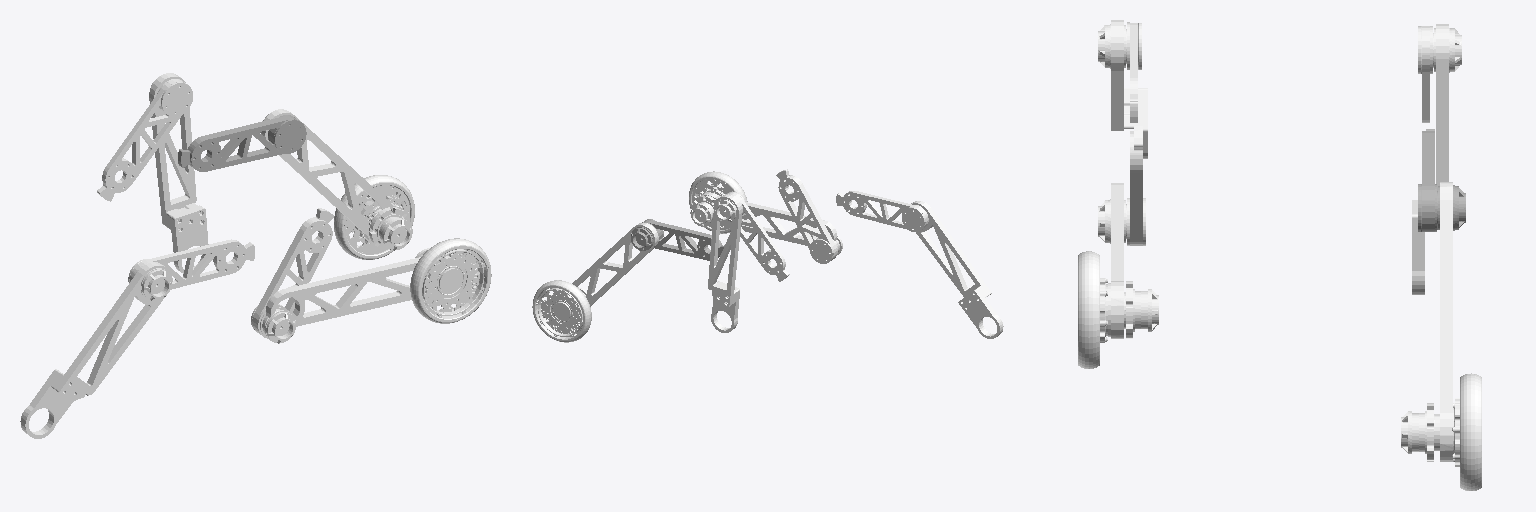
The robot description file, URDF, robot "infantry-rl":
<?xml version="1.0" encoding="utf-8"?>
<!-- This URDF was automatically created by SolidWorks to URDF Exporter! Originally created by Stephen Brawner (brawner@gmail.com) 
     Commit Version: 1.6.0-4-g7f85cfe  Build Version: 1.6.7995.38578
     For more information, please see http://wiki.ros.org/sw_urdf_exporter -->
<robot
  name="infantry-rl">
  <link
    name="base_link">
    <inertial>
      <origin
        xyz="-0.0065755 0.00014755 0.16552"
        rpy="0 0 0" />
      <mass
        value="9.3897" />
      <inertia
        ixx="0.011927"
        ixy="-1.1541E-05"
        ixz="6.2519E-05"
        iyy="0.01528"
        iyz="1.1611E-05"
        izz="0.018002" />
    </inertial>
    <visual>
      <origin
        xyz="0 0 0"
        rpy="0 0 0" />
      <geometry>
        <mesh
          filename="package://infantry-rl/meshes/base_link.STL" />
      </geometry>
      <material
        name="">
        <color
          rgba="0.89804 0.91765 0.92941 1" />
      </material>
    </visual>
    <collision>
      <origin
        xyz="0 0 0"
        rpy="0 0 0" />
      <geometry>
        <mesh
          filename="package://infantry-rl/meshes/base_link.STL" />
      </geometry>
    </collision>
  </link>
  <link
    name="left_front_ham">
    <inertial>
      <origin
        xyz="0.099289 0.0045817 -0.00068626"
        rpy="0 0 0" />
      <mass
        value="0.31578" />
      <inertia
        ixx="9.1866E-05"
        ixy="1.6076E-06"
        ixz="3.6232E-06"
        iyy="0.00073434"
        iyz="-1.1128E-08"
        izz="0.00068952" />
    </inertial>
    <visual>
      <origin
        xyz="0 0 0"
        rpy="0 0 0" />
      <geometry>
        <mesh
          filename="package://infantry-rl/meshes/left_front_ham.STL" />
      </geometry>
      <material
        name="">
        <color
          rgba="0.75294 0.75294 0.75294 1" />
      </material>
    </visual>
    <collision>
      <origin
        xyz="0 0 0"
        rpy="0 0 0" />
      <geometry>
        <mesh
          filename="package://infantry-rl/meshes/left_front_ham.STL" />
      </geometry>
    </collision>
  </link>
  <joint
    name="left_front_hip"
    type="revolute">
    <origin
      xyz="0.075033 0.168 0.128"
      rpy="0 0 0" />
    <parent
      link="base_link" />
    <child
      link="left_front_ham" />
    <axis
      xyz="9.9049E-05 1 0" />
    <limit
      lower="-0.17715"
      upper="1.3121"
      effort="40"
      velocity="16.755" />
  </joint>
  <link
    name="left_front_calf">
    <inertial>
      <origin
        xyz="-0.17027 -0.003571 -0.12119"
        rpy="0 0 0" />
      <mass
        value="0.69516" />
      <inertia
        ixx="0.0012193"
        ixy="1.2983E-06"
        ixz="-0.0011663"
        iyy="0.0032071"
        iyz="6.818E-07"
        izz="0.0020449" />
    </inertial>
    <visual>
      <origin
        xyz="0 0 0"
        rpy="0 0 0" />
      <geometry>
        <mesh
          filename="package://infantry-rl/meshes/left_front_calf.STL" />
      </geometry>
      <material
        name="">
        <color
          rgba="1 1 1 1" />
      </material>
    </visual>
    <collision>
      <origin
        xyz="0 0 0"
        rpy="0 0 0" />
      <geometry>
        <mesh
          filename="package://infantry-rl/meshes/left_front_calf.STL" />
      </geometry>
    </collision>
  </link>
  <joint
    name="left_front_knee"
    type="revolute">
    <origin
      xyz="0.145 0.0275 -0.00099998"
      rpy="0 0 0" />
    <parent
      link="left_front_ham" />
    <child
      link="left_front_calf" />
    <axis
      xyz="0 -1 0" />
    <limit
      lower="0.68679"
      upper="2.6859"
      effort="40"
      velocity="16.755" />
  </joint>
  <link
    name="left_wheel">
    <inertial>
      <origin
        xyz="-3.0976E-14 -0.0013569 -2.6729E-14"
        rpy="0 0 0" />
      <mass
        value="0.10335" />
      <inertia
        ixx="0.00019945"
        ixy="-4.2589E-18"
        ixz="5.6282E-15"
        iyy="0.00038938"
        iyz="-3.5512E-18"
        izz="0.00019945" />
    </inertial>
    <visual>
      <origin
        xyz="0 0 0"
        rpy="0 0 0" />
      <geometry>
        <mesh
          filename="package://infantry-rl/meshes/left_wheel.STL" />
      </geometry>
      <material
        name="">
        <color
          rgba="1 1 1 1" />
      </material>
    </visual>
    <collision>
      <origin
        xyz="0 0 0"
        rpy="0 0 0" />
      <geometry>
        <mesh
          filename="package://infantry-rl/meshes/left_wheel.STL" />
      </geometry>
    </collision>
  </link>
  <joint
    name="left_wheel"
    type="continuous">
    <origin
      xyz="-0.22 0.023445 -0.15653"
      rpy="0 0 0" />
    <parent
      link="left_front_calf" />
    <child
      link="left_wheel" />
    <axis
      xyz="0 -1 0" />
    <limit
      lower="0"
      upper="0"
      effort="3.69"
      velocity="61.471" />
  </joint>
  <link
    name="left_back_ham">
    <inertial>
      <origin
        xyz="-0.10449 0.0052588 -0.00071934"
        rpy="0 0 0" />
      <mass
        value="0.24697" />
      <inertia
        ixx="6.5626E-05"
        ixy="-2.7569E-14"
        ixz="-3.2252E-06"
        iyy="0.00051978"
        iyz="-1.4529E-15"
        izz="0.00048514" />
    </inertial>
    <visual>
      <origin
        xyz="0 0 0"
        rpy="0 0 0" />
      <geometry>
        <mesh
          filename="package://infantry-rl/meshes/left_back_ham.STL" />
      </geometry>
      <material
        name="">
        <color
          rgba="1 1 1 1" />
      </material>
    </visual>
    <collision>
      <origin
        xyz="0 0 0"
        rpy="0 0 0" />
      <geometry>
        <mesh
          filename="package://infantry-rl/meshes/left_back_ham.STL" />
      </geometry>
    </collision>
  </link>
  <joint
    name="left_back_hip"
    type="revolute">
    <origin
      xyz="-0.074967 0.1655 0.128"
      rpy="0 0 0" />
    <parent
      link="base_link" />
    <child
      link="left_back_ham" />
    <axis
      xyz="9.9049E-05 1 0" />
    <limit
      lower="1.3121"
      upper="3.3187"
      effort="40"
      velocity="16.755" />
  </joint>
  <link
    name="left_back_calf">
    <inertial>
      <origin
        xyz="0.12063 -0.015691 -0.087029"
        rpy="0 0 0" />
      <mass
        value="0.33194" />
      <inertia
        ixx="0.00045896"
        ixy="6.3092E-07"
        ixz="0.00048031"
        iyy="0.0012309"
        iyz="-4.9601E-07"
        izz="0.00078405" />
    </inertial>
    <visual>
      <origin
        xyz="0 0 0"
        rpy="0 0 0" />
      <geometry>
        <mesh
          filename="package://infantry-rl/meshes/left_back_calf.STL" />
      </geometry>
      <material
        name="">
        <color
          rgba="1 1 1 1" />
      </material>
    </visual>
    <collision>
      <origin
        xyz="0 0 0"
        rpy="0 0 0" />
      <geometry>
        <mesh
          filename="package://infantry-rl/meshes/left_back_calf.STL" />
      </geometry>
    </collision>
  </link>
  <joint
    name="left_back_knee"
    type="revolute">
    <origin
      xyz="-0.145 0.025 -0.00099998"
      rpy="0 0 0" />
    <parent
      link="left_back_ham" />
    <child
      link="left_back_calf" />
    <axis
      xyz="0 -1 0" />
    <limit
      lower="0.45571"
      upper="2.4548"
      effort="40"
      velocity="16.755" />
  </joint>
  <link
    name="right_front_ham">
    <inertial>
      <origin
        xyz="-0.099289 0.0044803 -0.00068626"
        rpy="0 0 0" />
      <mass
        value="0.31578" />
      <inertia
        ixx="9.1866E-05"
        ixy="1.6076E-06"
        ixz="-3.6232E-06"
        iyy="0.00073434"
        iyz="1.1128E-08"
        izz="0.00068952" />
    </inertial>
    <visual>
      <origin
        xyz="0 0 0"
        rpy="0 0 0" />
      <geometry>
        <mesh
          filename="package://infantry-rl/meshes/right_front_ham.STL" />
      </geometry>
      <material
        name="">
        <color
          rgba="1 1 1 1" />
      </material>
    </visual>
    <collision>
      <origin
        xyz="0 0 0"
        rpy="0 0 0" />
      <geometry>
        <mesh
          filename="package://infantry-rl/meshes/right_front_ham.STL" />
      </geometry>
    </collision>
  </link>
  <joint
    name="right_front_hip"
    type="revolute">
    <origin
      xyz="0.075 -0.168 0.128"
      rpy="0 0 -3.1416" />
    <parent
      link="base_link" />
    <child
      link="right_front_ham" />
    <axis
      xyz="-9.9049E-05 -1 0" />
    <limit
      lower="1.3121"
      upper="3.3187"
      effort="40"
      velocity="16.755" />
  </joint>
  <link
    name="right_front_calf">
    <inertial>
      <origin
        xyz="0.16803 -0.00088924 -0.14773"
        rpy="0 0 0" />
      <mass
        value="0.69516" />
      <inertia
        ixx="0.0012198"
        ixy="1.4187E-06"
        ixz="0.0011653"
        iyy="0.0032071"
        iyz="-1.1129E-06"
        izz="0.0020443" />
    </inertial>
    <visual>
      <origin
        xyz="0 0 0"
        rpy="0 0 0" />
      <geometry>
        <mesh
          filename="package://infantry-rl/meshes/right_front_calf.STL" />
      </geometry>
      <material
        name="">
        <color
          rgba="1 1 1 1" />
      </material>
    </visual>
    <collision>
      <origin
        xyz="0 0 0"
        rpy="0 0 0" />
      <geometry>
        <mesh
          filename="package://infantry-rl/meshes/right_front_calf.STL" />
      </geometry>
    </collision>
  </link>
  <joint
    name="right_front_knee"
    type="revolute">
    <origin
      xyz="-0.14273 0.0275 0.025549"
      rpy="0 0 0" />
    <parent
      link="right_front_ham" />
    <child
      link="right_front_calf" />
    <axis
      xyz="0 -1 0" />
    <limit
      lower="0.45571"
      upper="2.4548"
      effort="40"
      velocity="16.755" />
  </joint>
  <link
    name="right_wheel">
    <inertial>
      <origin
        xyz="0.0084057 -0.0013569 -0.012542"
        rpy="0 0 0" />
      <mass
        value="0.10335" />
      <inertia
        ixx="0.00019945"
        ixy="2.5041E-19"
        ixz="4.2304E-14"
        iyy="0.00038938"
        iyz="-6.16E-18"
        izz="0.00019945" />
    </inertial>
    <visual>
      <origin
        xyz="0 0 0"
        rpy="0 0 0" />
      <geometry>
        <mesh
          filename="package://infantry-rl/meshes/right_wheel.STL" />
      </geometry>
      <material
        name="">
        <color
          rgba="1 1 1 1" />
      </material>
    </visual>
    <collision>
      <origin
        xyz="0 0 0"
        rpy="0 0 0" />
      <geometry>
        <mesh
          filename="package://infantry-rl/meshes/right_wheel.STL" />
      </geometry>
    </collision>
  </link>
  <joint
    name="right_wheel"
    type="continuous">
    <origin
      xyz="0.20933 0.028445 -0.17054"
      rpy="0 0 0" />
    <parent
      link="right_front_calf" />
    <child
      link="right_wheel" />
    <axis
      xyz="0 -1 0" />
    <limit
      lower="0"
      upper="0"
      effort="3.69"
      velocity="61.471" />
  </joint>
  <link
    name="right_back_ham">
    <inertial>
      <origin
        xyz="0.10449 0.0052588 -0.00071934"
        rpy="0 0 0" />
      <mass
        value="0.24697" />
      <inertia
        ixx="6.5626E-05"
        ixy="-2.7604E-14"
        ixz="3.2252E-06"
        iyy="0.00051978"
        iyz="-2.687E-16"
        izz="0.00048514" />
    </inertial>
    <visual>
      <origin
        xyz="0 0 0"
        rpy="0 0 0" />
      <geometry>
        <mesh
          filename="package://infantry-rl/meshes/right_back_ham.STL" />
      </geometry>
      <material
        name="">
        <color
          rgba="1 1 1 1" />
      </material>
    </visual>
    <collision>
      <origin
        xyz="0 0 0"
        rpy="0 0 0" />
      <geometry>
        <mesh
          filename="package://infantry-rl/meshes/right_back_ham.STL" />
      </geometry>
    </collision>
  </link>
  <joint
    name="right_back_hip"
    type="revolute">
    <origin
      xyz="-0.075 -0.1705 0.128"
      rpy="0 0 -3.1416" />
    <parent
      link="base_link" />
    <child
      link="right_back_ham" />
    <axis
      xyz="-9.9049E-05 -1 0" />
    <limit
      lower="-0.17715"
      upper="1.3121"
      effort="40"
      velocity="16.755" />
  </joint>
  <link
    name="right_back_calf">
    <inertial>
      <origin
        xyz="-0.12063 -0.015703 -0.087029"
        rpy="0 0 0" />
      <mass
        value="0.33194" />
      <inertia
        ixx="0.00045896"
        ixy="6.3092E-07"
        ixz="-0.00048031"
        iyy="0.0012309"
        iyz="4.9601E-07"
        izz="0.00078405" />
    </inertial>
    <visual>
      <origin
        xyz="0 0 0"
        rpy="0 0 0" />
      <geometry>
        <mesh
          filename="package://infantry-rl/meshes/right_back_calf.STL" />
      </geometry>
      <material
        name="">
        <color
          rgba="1 1 1 1" />
      </material>
    </visual>
    <collision>
      <origin
        xyz="0 0 0"
        rpy="0 0 0" />
      <geometry>
        <mesh
          filename="package://infantry-rl/meshes/right_back_calf.STL" />
      </geometry>
    </collision>
  </link>
  <joint
    name="right_back_knee"
    type="revolute">
    <origin
      xyz="0.145 0.025 -0.00099998"
      rpy="0 0 0" />
    <parent
      link="right_back_ham" />
    <child
      link="right_back_calf" />
    <axis
      xyz="0 -1 0" />
    <limit
      lower="0.68679"
      upper="2.6859"
      effort="40"
      velocity="16.755" />
  </joint>
</robot>

--- What the picture shows (computed from the rendered views, not written in the file) ---
3 views of the same robot in one strip: view 1: azimuth 30°, elevation 25°; view 2: azimuth 150°, elevation 25°; view 3: azimuth 270°, elevation 25° (orthographic).
Robot: infantry-rl — 11 links, 10 joints (8 revolute, 2 continuous); root link base_link; default pose: all joints at 0 but 6 set to mid-range because 0 is outside their limits (left_front_knee = 1.69, left_back_hip = 2.32, left_back_knee = 1.46, right_front_hip = 2.32, right_front_knee = 1.46, right_back_knee = 1.69).
Links seen in each view (by area): view 1: right_front_calf, left_front_calf, right_back_calf, left_back_calf, left_front_ham, right_front_ham, left_back_ham, right_back_ham, right_wheel, left_wheel; view 2: left_front_calf, right_back_calf, left_back_calf, right_front_calf, right_front_ham, right_back_ham, left_back_ham, left_front_ham, left_wheel, right_wheel; view 3: left_front_calf, right_front_calf, left_back_calf, right_wheel, left_wheel, right_front_ham, right_back_calf, left_front_ham, right_back_ham, left_back_ham.
Link boxes in pixels (<box>): right_front_calf: <box>266,248,480,327</box>; left_front_calf: <box>260,109,412,254</box>; right_back_calf: <box>20,262,172,438</box>; left_back_calf: <box>149,73,208,273</box>; left_front_ham: <box>178,114,306,171</box>; right_front_ham: <box>251,208,333,343</box>; left_back_ham: <box>97,76,192,201</box>; right_back_ham: <box>128,239,254,300</box>; right_wheel: <box>410,238,491,323</box>; left_wheel: <box>334,175,414,259</box>; left_front_calf: <box>539,222,658,336</box>; right_back_calf: <box>911,201,1003,338</box>; left_back_calf: <box>708,194,742,332</box>; right_front_calf: <box>690,179,837,245</box>; right_front_ham: <box>776,169,842,263</box>; right_back_ham: <box>836,191,929,231</box>; left_back_ham: <box>714,192,789,281</box>; left_front_ham: <box>631,219,724,260</box>; left_wheel: <box>532,280,591,342</box>; right_wheel: <box>689,171,747,233</box>; left_front_calf: <box>1401,182,1459,466</box>; right_front_calf: <box>1100,183,1158,342</box>; left_back_calf: <box>1412,24,1448,294</box>; right_wheel: <box>1078,251,1099,368</box>; left_wheel: <box>1460,373,1481,490</box>; right_front_ham: <box>1098,126,1145,245</box>; right_back_calf: <box>1111,20,1147,158</box>; left_front_ham: <box>1418,129,1465,231</box>; right_back_ham: <box>1098,22,1141,122</box>; left_back_ham: <box>1418,26,1461,122</box>.
Bounding box of the posed robot: 0.9005 × 0.4654 × 0.4066 m (x, y, z).
10 mesh visuals loaded from 11 distinct referenced files (10 binary STL); not drawn: 1 (reference not matched to a file when rendering).
